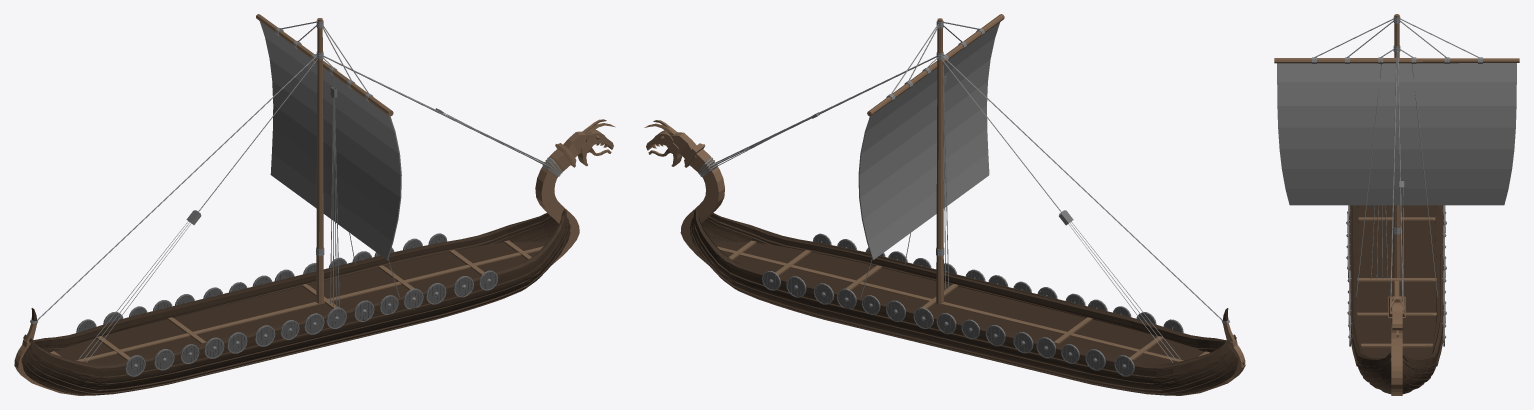
Rendered from SM_longboat_large_01_empty.fbx.
The picture shows the model from 3 angles, left to right: view 1: azimuth 30°, elevation 25°; view 2: azimuth 150°, elevation 25°; view 3: azimuth 270°, elevation 25°; orthographic projection. The views are drawn at different scales.
Visible parts, largest first — view 1: Object560; view 2: Object560; view 3: Object560.
Part boxes in pixels (left/top/right/bottom): Object560: left=14, top=14, right=615, bottom=395; Object560: left=644, top=14, right=1245, bottom=395; Object560: left=1274, top=14, right=1519, bottom=395.
Bounding box in the file's own units: 918 × 477 × 354.
